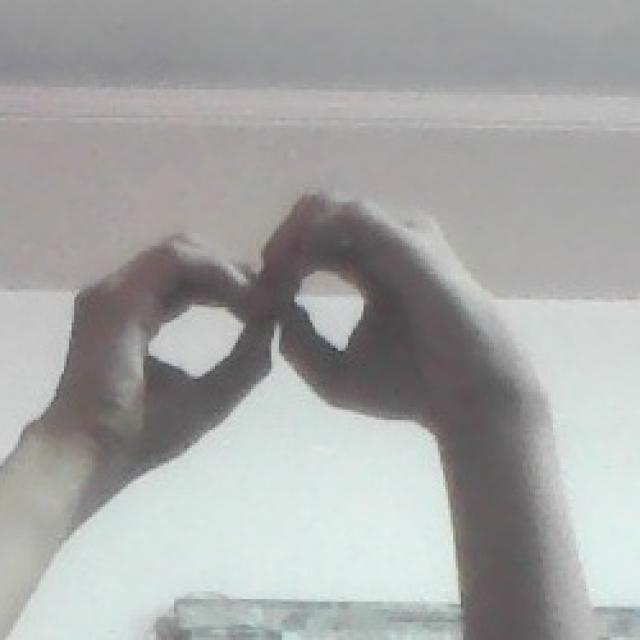Alphabet-B: (51, 185, 546, 480)
